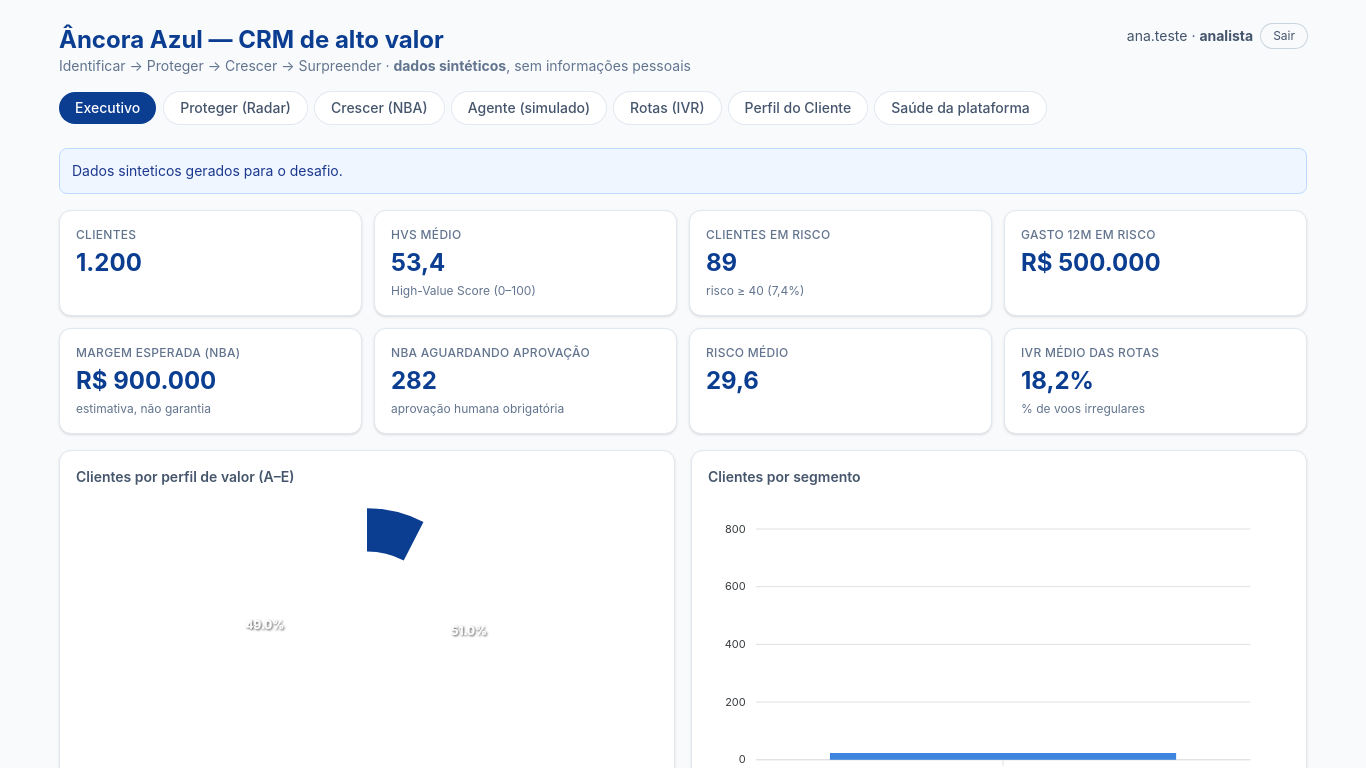
Scenario: Crescer: aprovacao › analista ve o aviso mas nao tem botoes nem consulta decisoes
Click the button "Crescer (NBA)" at point(379, 108), box [315,92,444,124]
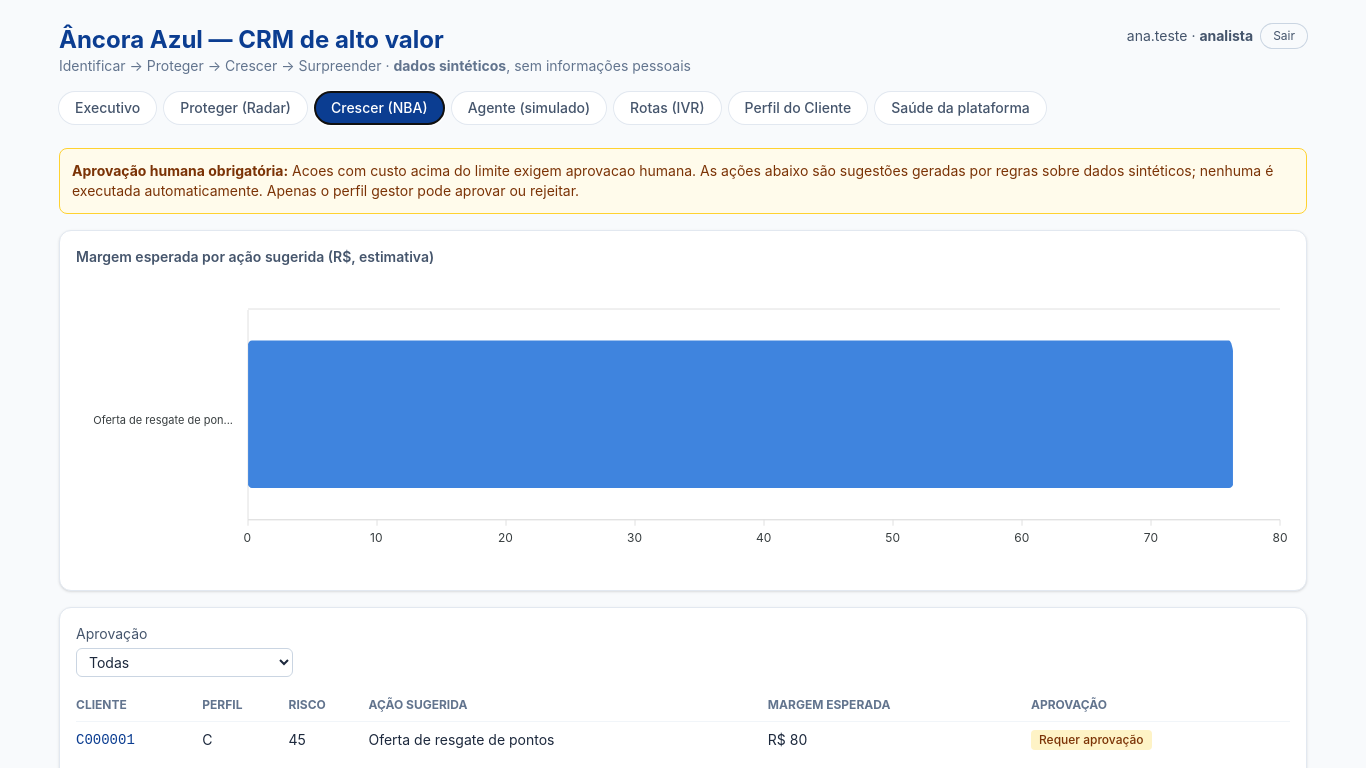
Check: the text "Aprovação humana obrigatória:" is shown, box [72,162,288,179]
Check: the text "Requer aprovação" is shown, box [1031,730,1152,750]
